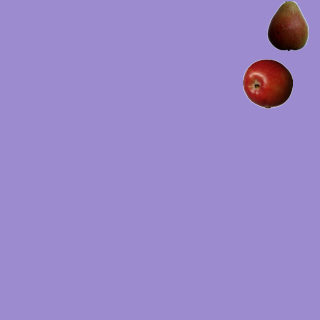Apple Braeburn: (242, 58, 292, 108)
Pear Forelle: (262, 0, 312, 50)
